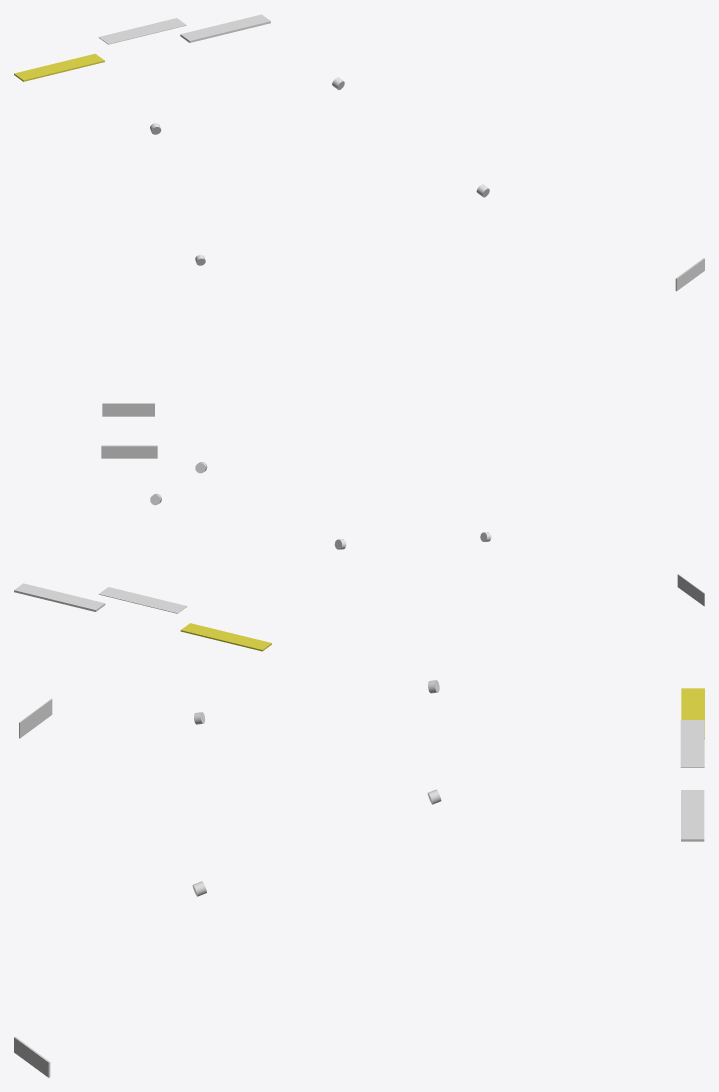
Rendered from fieldzones.glb.
3 renders of one model, top to bottom at view 1: azimuth 30°, elevation 25°; view 2: azimuth 150°, elevation 25°; view 3: azimuth 270°, elevation 25°, orthographic. The views are drawn at different scales.
Visible parts, largest first — view 1: blueSUscore, redSUscore, EXTscore, redFSscore; view 2: blueSUscore, redSUscore, EXTscore, blueFSscore, redFSscore; view 3: blueSUscore, EXTscore, redSUscore, blueFSscore.
Part boxes in pixels (x1=…): blueSUscore: x1=180, y1=14, x2=270, y2=42; redSUscore: x1=14, y1=53, x2=104, y2=81; EXTscore: x1=98, y1=18, x2=186, y2=44; redFSscore: x1=102, y1=403, x2=154, y2=416; blueSUscore: x1=14, y1=583, x2=105, y2=611; redSUscore: x1=180, y1=623, x2=271, y2=651; EXTscore: x1=98, y1=587, x2=187, y2=613; blueFSscore: x1=101, y1=445, x2=157, y2=458; redFSscore: x1=677, y1=574, x2=704, y2=606; blueSUscore: x1=681, y1=790, x2=704, y2=841; EXTscore: x1=680, y1=720, x2=704, y2=767; redSUscore: x1=681, y1=688, x2=704, y2=738; blueFSscore: x1=14, y1=1036, x2=50, y2=1077.
Bounding box in the file's own units: 7.11 × 1.46 × 5.71.
